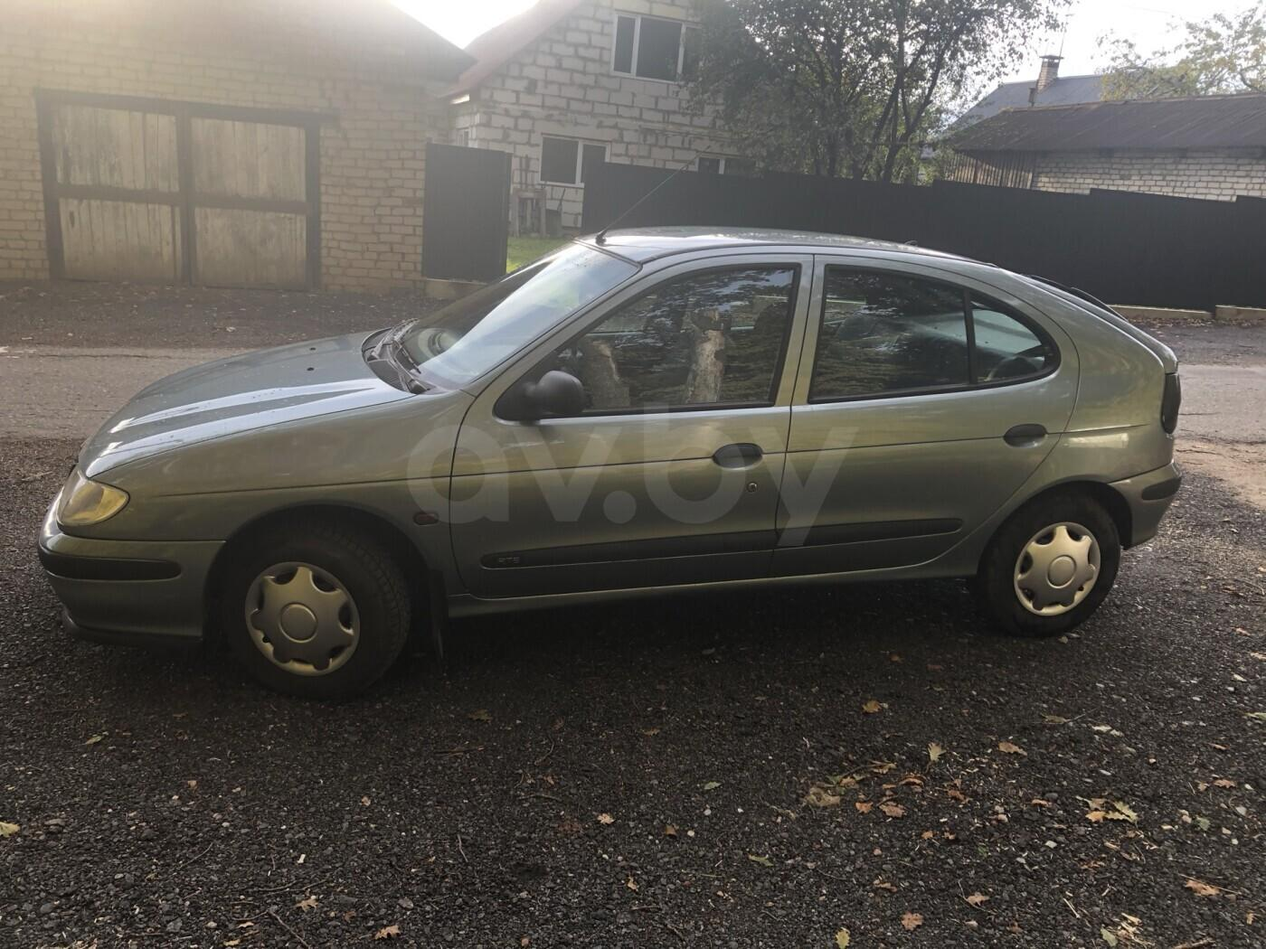Megane_1995-1999: (40, 219, 1182, 696)
